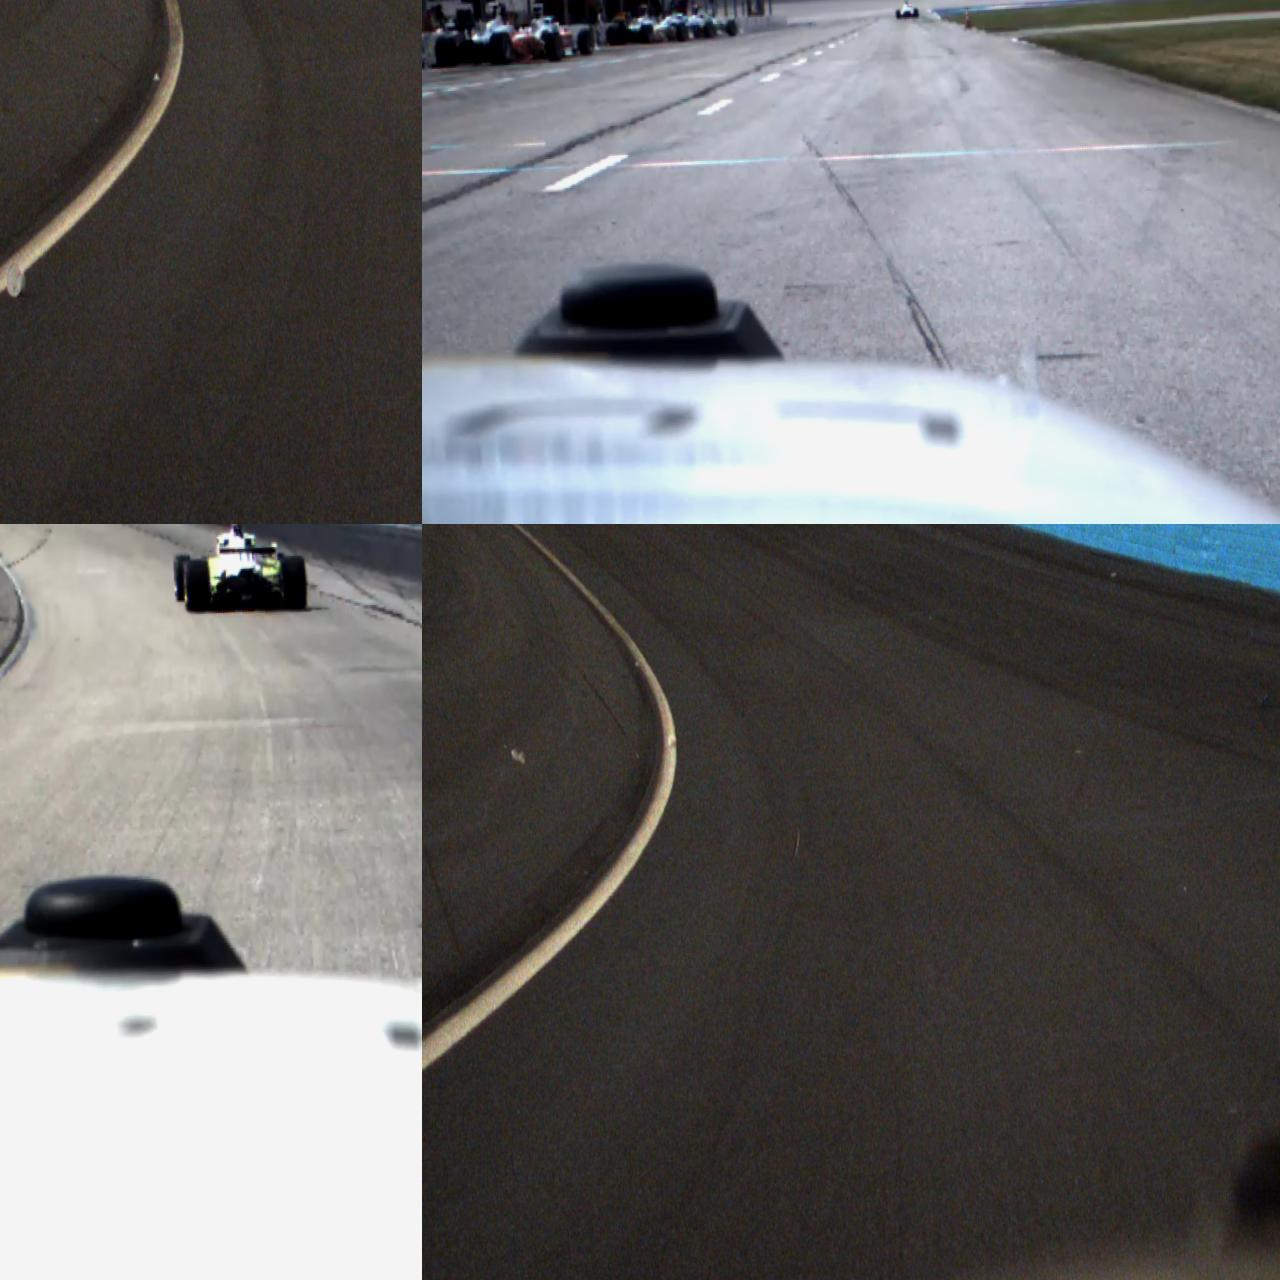AV: (170, 524, 308, 618), (433, 0, 565, 68), (605, 2, 687, 47), (894, 0, 918, 19)
Wheel: (183, 559, 211, 612), (282, 554, 307, 611), (172, 552, 192, 602), (434, 32, 461, 66), (490, 30, 511, 64), (544, 30, 565, 62), (577, 28, 594, 56), (640, 23, 654, 43), (606, 25, 619, 45), (675, 21, 687, 41), (726, 19, 737, 38), (704, 20, 715, 39), (896, 9, 900, 19), (913, 7, 918, 16)
